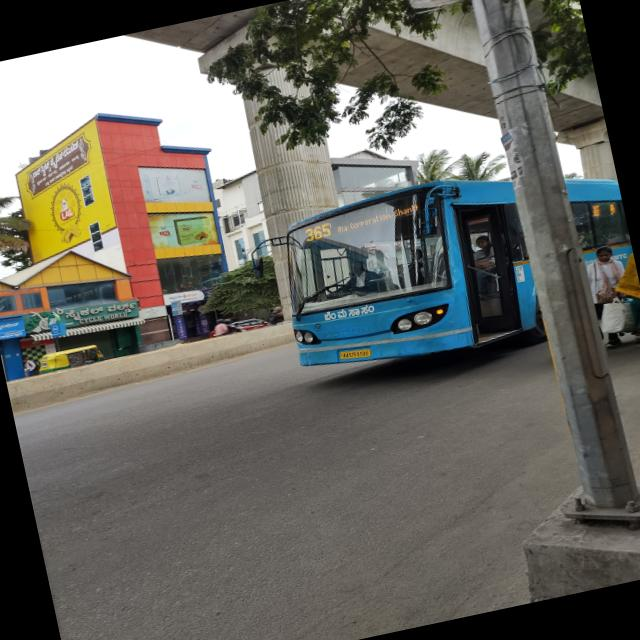bus: (238, 139, 640, 386)
display: (292, 192, 428, 245)
dnumber: (302, 219, 334, 241)
